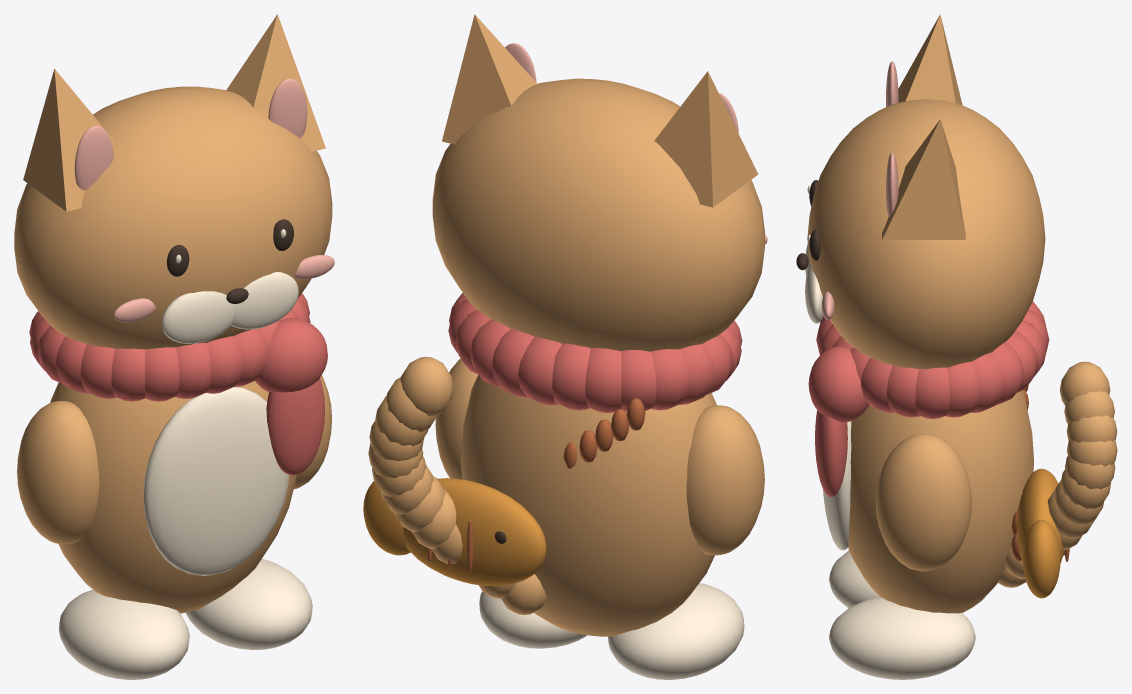
File: cozy-cat.glb
3 renders of one model, left to right at view 1: azimuth 30°, elevation 25°; view 2: azimuth 150°, elevation 25°; view 3: azimuth 270°, elevation 25°, orthographic. The views are drawn at different scales.
Parts seen in each view (by area): view 1: Soft cheek head, Cream bib, Pear body, Bean paw (×2), Padded scarf (×8), Mitten (×2), Sculpted ear (×2), Cream muzzle (×2), Scarf end, Scarf knot, Pink ear inset (×2), Cheek (×2) (+1 smaller); view 2: Soft cheek head, Pear body, Padded scarf (×10), Curled tail (×11), Sculpted ear (×2), Mitten (×2), Bean paw (×2), Fish satchel, Fish tail; view 3: Soft cheek head, Pear body, Bean paw (×2), Mitten, Padded scarf (×8), Sculpted ear (×2), Curled tail (×8), Scarf knot, Fish tail, Scarf end, Fish satchel, Cream bib (+2 smaller).
Boxes of the visible parts, box(x1,y1,x2,y2) form: Soft cheek head: box(14, 86, 332, 349); Cream bib: box(143, 387, 289, 575); Pear body: box(50, 381, 296, 613); Bean paw (×2): box(59, 559, 312, 679); Padded scarf (×8): box(37, 326, 267, 401); Mitten (×2): box(17, 375, 331, 544); Sculpted ear (×2): box(23, 14, 325, 211); Cream muzzle (×2): box(161, 272, 298, 343); Scarf end: box(266, 378, 324, 475); Scarf knot: box(255, 318, 327, 392); Pink ear inset (×2): box(74, 78, 307, 190); Cheek (×2): box(113, 255, 334, 322); Soft cheek head: box(432, 78, 764, 351); Pear body: box(460, 374, 716, 636); Padded scarf (×10): box(455, 309, 733, 413); Curled tail (×11): box(368, 356, 546, 614); Sculpted ear (×2): box(442, 14, 758, 207); Mitten (×2): box(435, 358, 764, 555); Bean paw (×2): box(479, 583, 744, 679); Fish satchel: box(403, 478, 546, 585); Fish tail: box(363, 481, 410, 555); Soft cheek head: box(807, 99, 1045, 369); Pear body: box(848, 390, 1033, 613); Bean paw (×2): box(829, 550, 975, 679); Mitten: box(875, 433, 971, 571); Padded scarf (×8): box(861, 320, 1046, 418); Sculpted ear (×2): box(882, 14, 965, 239); Curled tail (×8): box(1047, 361, 1117, 538); Scarf knot: box(808, 346, 868, 422); Fish tail: box(1022, 520, 1060, 598); Scarf end: box(815, 410, 847, 497); Fish satchel: box(1017, 468, 1063, 563); Cream bib: box(823, 421, 851, 550).
Size of the model in its own units: 1.38 by 2.51 by 1.27.
